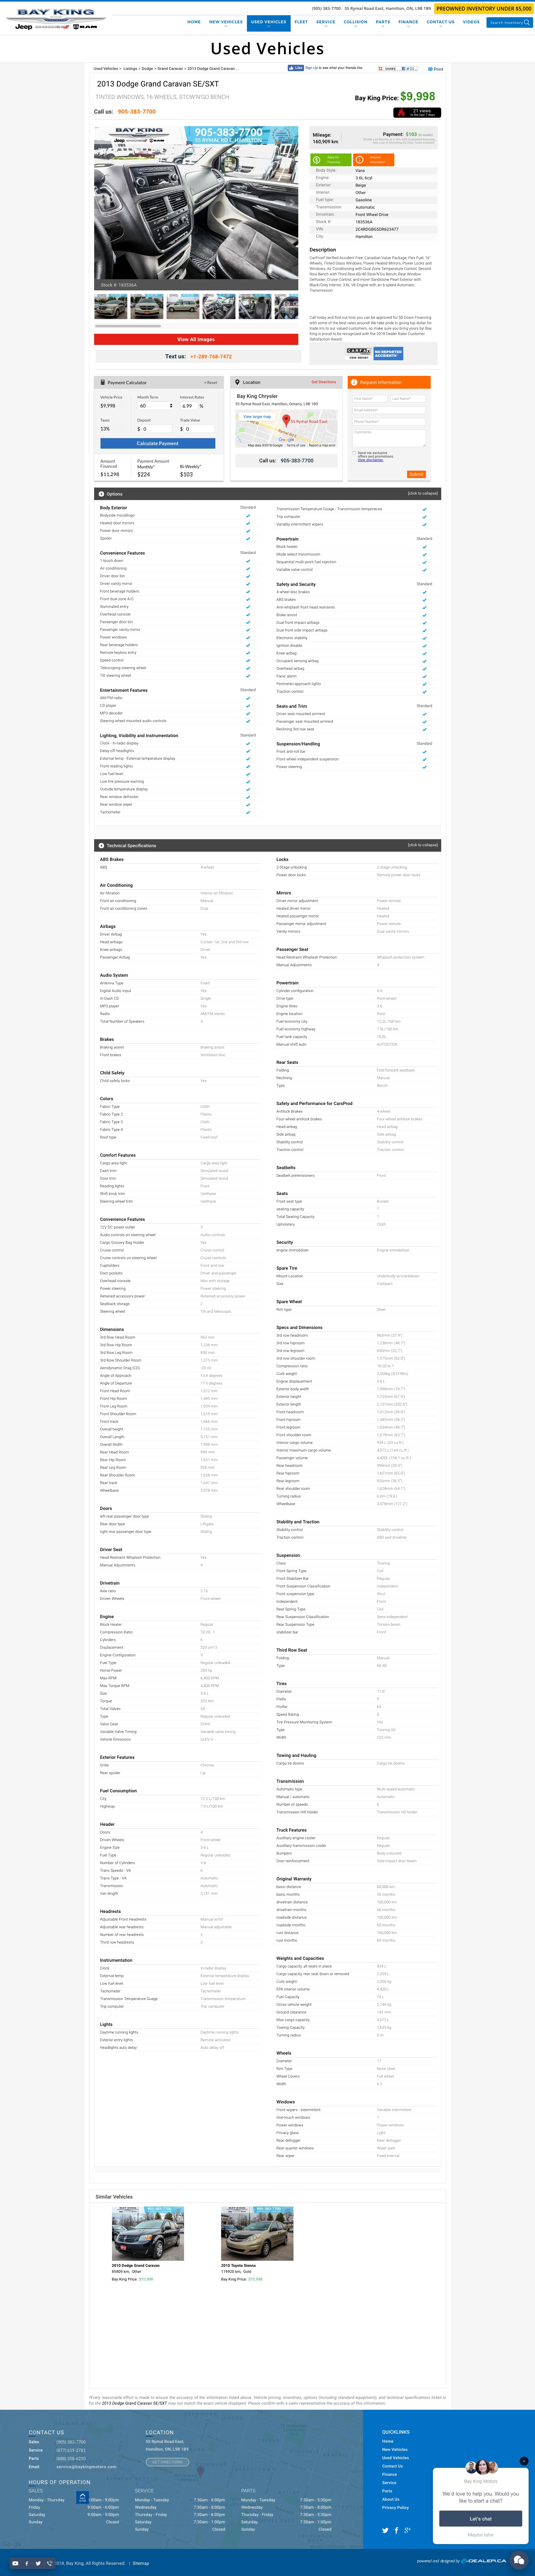car: (294, 322, 300, 330)
